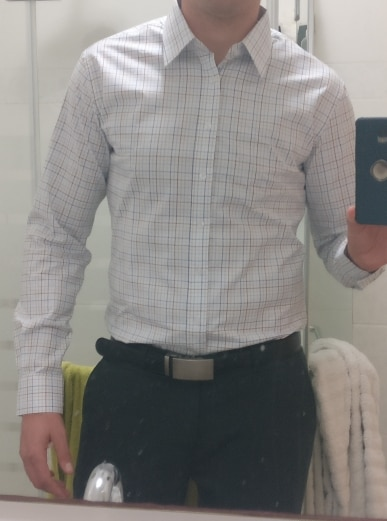shirts: (10, 13, 387, 413)
